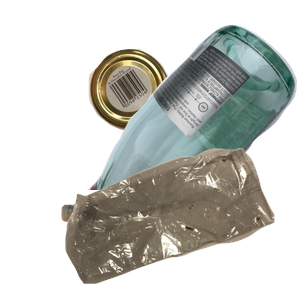glass: (86, 22, 300, 202)
metal: (86, 46, 248, 169)
plastic: (59, 193, 241, 300)
trash: (63, 145, 300, 300)
